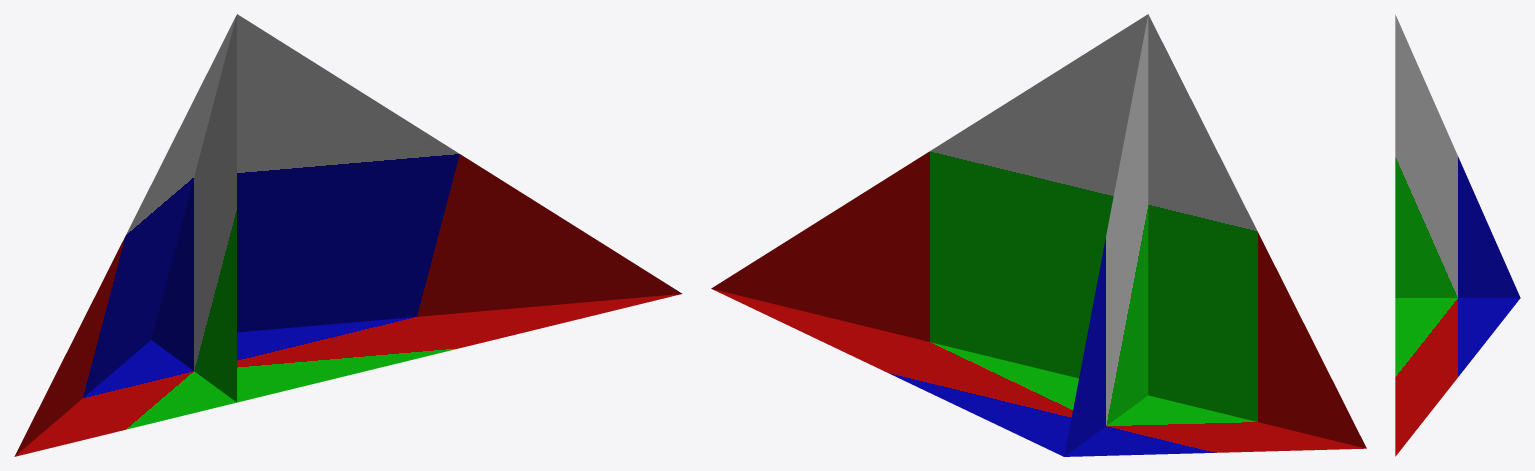
3 renders of one model, left to right at view 1: azimuth 30°, elevation 25°; view 2: azimuth 150°, elevation 25°; view 3: azimuth 270°, elevation 25°, orthographic. The views are drawn at different scales.
Size of the model in its own units: 0.18 by 0.1 by 0.04.
1 material, 1 textured.
